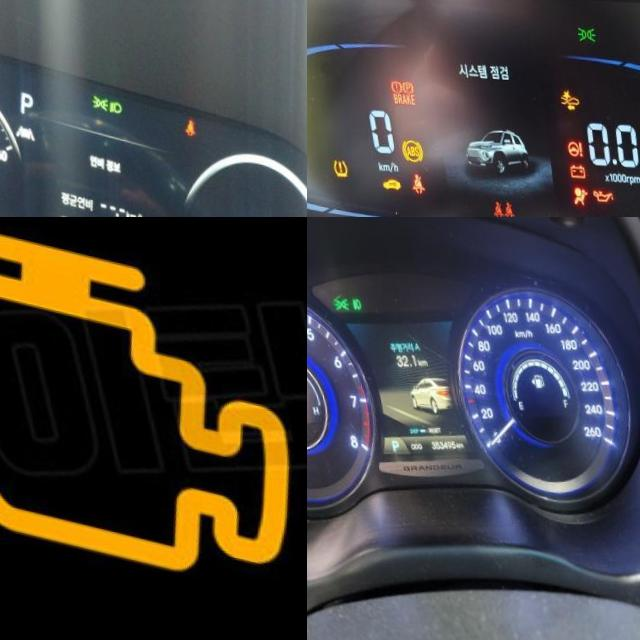FrontFogLight: (342, 291, 354, 306)
Low beam: (101, 94, 117, 109)
SideLamp: (323, 291, 343, 309), (85, 88, 104, 106), (571, 19, 591, 36)
